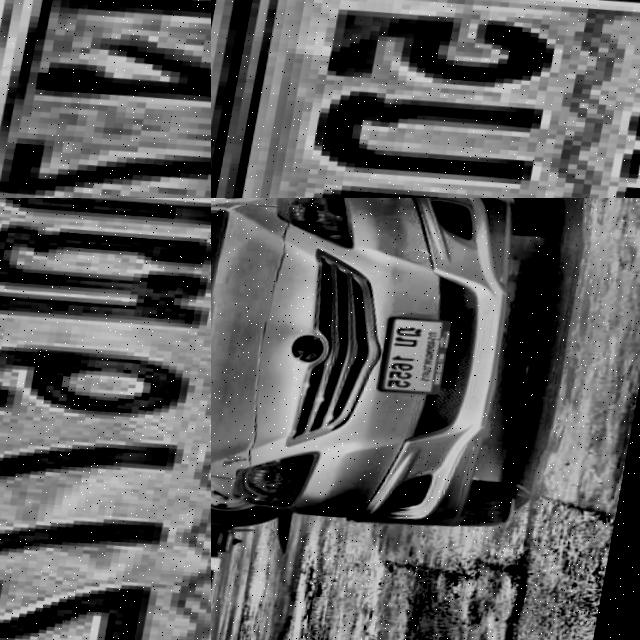license-plate: (0, 198, 211, 640), (211, 0, 640, 198), (0, 0, 211, 198), (379, 315, 468, 401)
